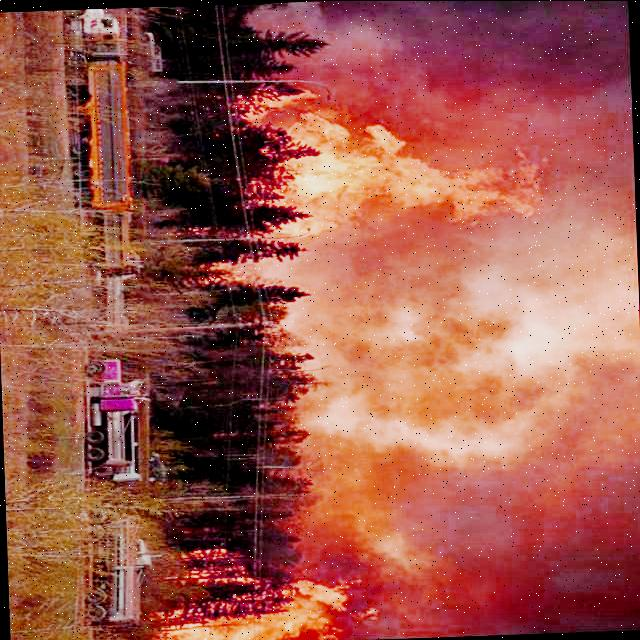api: (264, 110, 539, 227), (165, 585, 347, 640), (242, 86, 316, 122)
asap: (364, 227, 630, 637), (543, 1, 631, 217)
